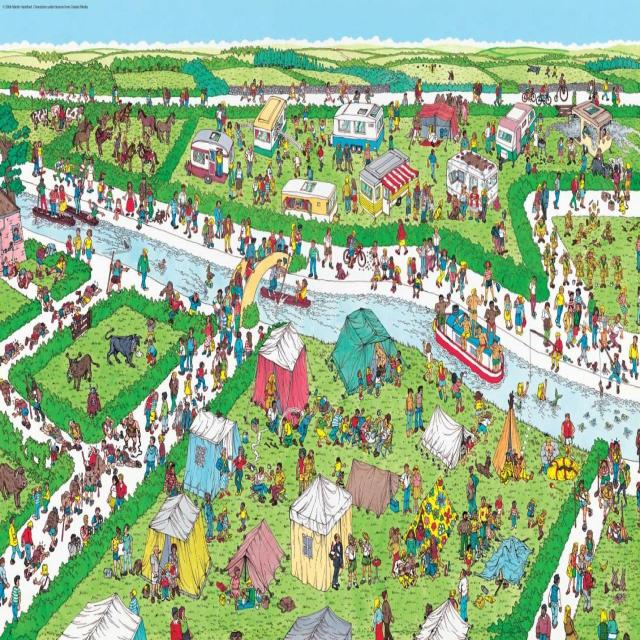waldo: (169, 462, 175, 474)
